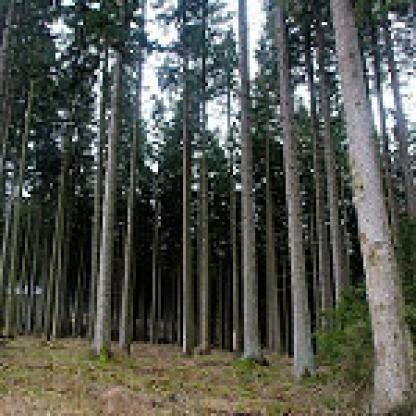trunk: (325, 0, 413, 413), (272, 0, 322, 380), (233, 3, 266, 366), (86, 55, 125, 358), (0, 83, 39, 336), (117, 50, 144, 355), (372, 53, 405, 244), (383, 39, 413, 227), (42, 173, 69, 342), (175, 97, 191, 355), (197, 150, 213, 355), (147, 211, 164, 349)
